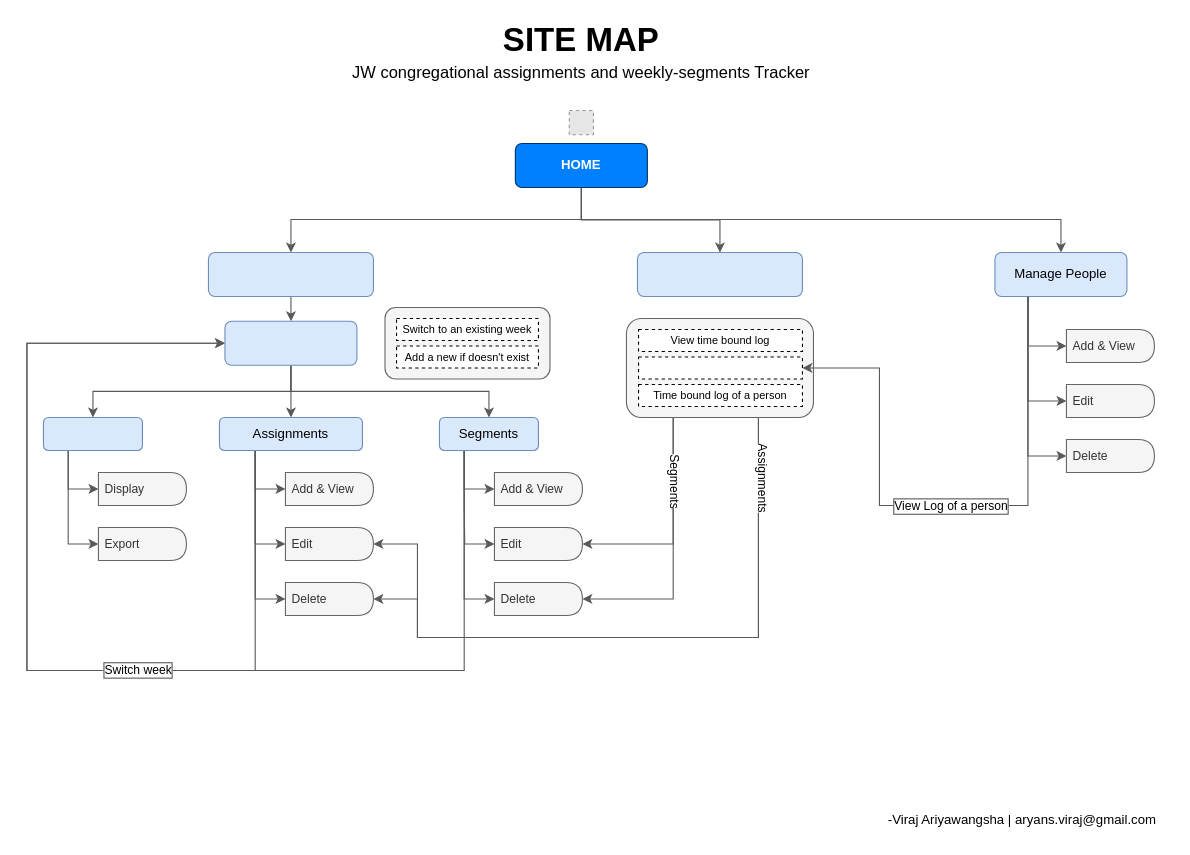
This 1190x855 diagram has some shape labels left out. Grey dashed boxes stand in for pictures. Each missing label, with the centre of its shape:
"Assignment Log" goes at (719,273).
"Select Week" goes at (290,342).
"View" goes at (92,433).
"View Person-wise log" goes at (719,367).
"Weekly Dashboard" goes at (290,273).
